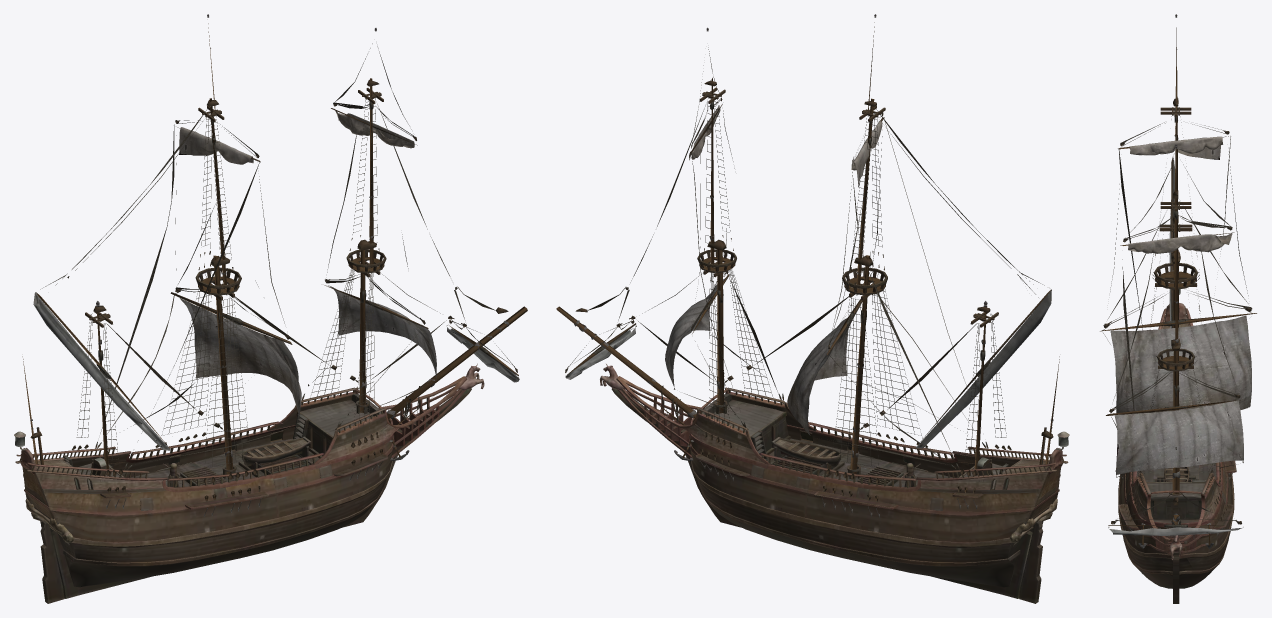
The model's file is dutch_ship.glb.
3 renders of one model, left to right at view 1: azimuth 30°, elevation 25°; view 2: azimuth 150°, elevation 25°; view 3: azimuth 270°, elevation 25°, orthographic. The views are drawn at different scales.
Parts seen in each view (by area): view 1: dutch_ship_medium_hull, dutch_ship_medium_rigging, dutch_ship_medium_sails; view 2: dutch_ship_medium_hull, dutch_ship_medium_rigging, dutch_ship_medium_sails; view 3: dutch_ship_medium_sails, dutch_ship_medium_hull, dutch_ship_medium_rigging.
Boxes of the visible parts, box(x1,y1,x2,y2) form: dutch_ship_medium_hull: box(14, 363, 484, 603); dutch_ship_medium_rigging: box(22, 14, 527, 516); dutch_ship_medium_sails: box(179, 110, 436, 419); dutch_ship_medium_hull: box(600, 364, 1069, 603); dutch_ship_medium_rigging: box(556, 14, 1059, 517); dutch_ship_medium_sails: box(665, 105, 882, 434); dutch_ship_medium_sails: box(1110, 136, 1251, 474); dutch_ship_medium_hull: box(1115, 289, 1236, 603); dutch_ship_medium_rigging: box(1100, 14, 1256, 548).
Bounding box in the file's own units: 24.05 × 24.66 × 6.8.
Materials: 3 (3 with a texture image).
